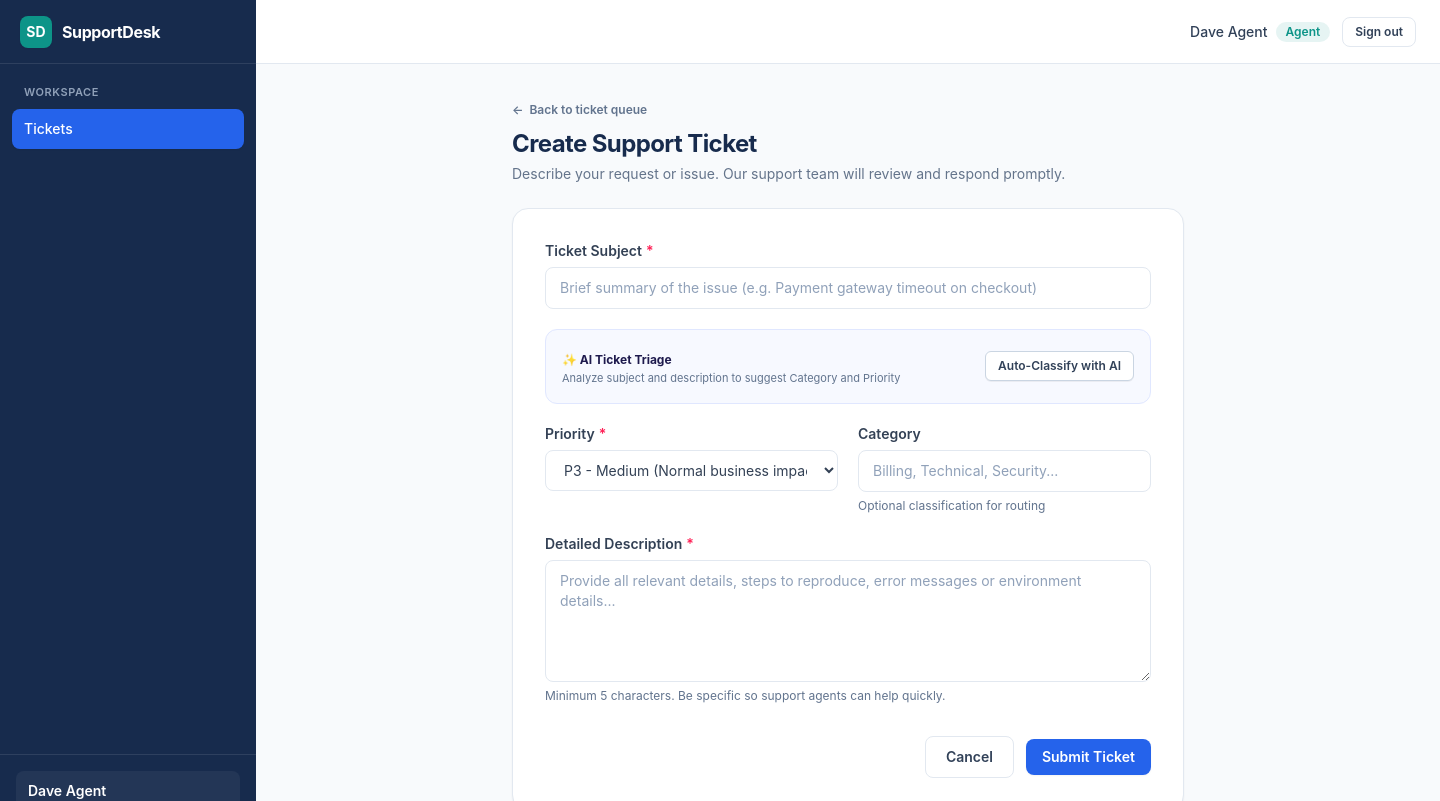
Test: AI Features Frontend UI › Feature 2: Auto-categorize + Priority in CreateTicketPage › classifies ticket and applies suggested category and priority to form
Replace the text in the field labelled "Ticket Subject*" with "Payment 504 Outage": [848, 288] box [545,267,1151,309]
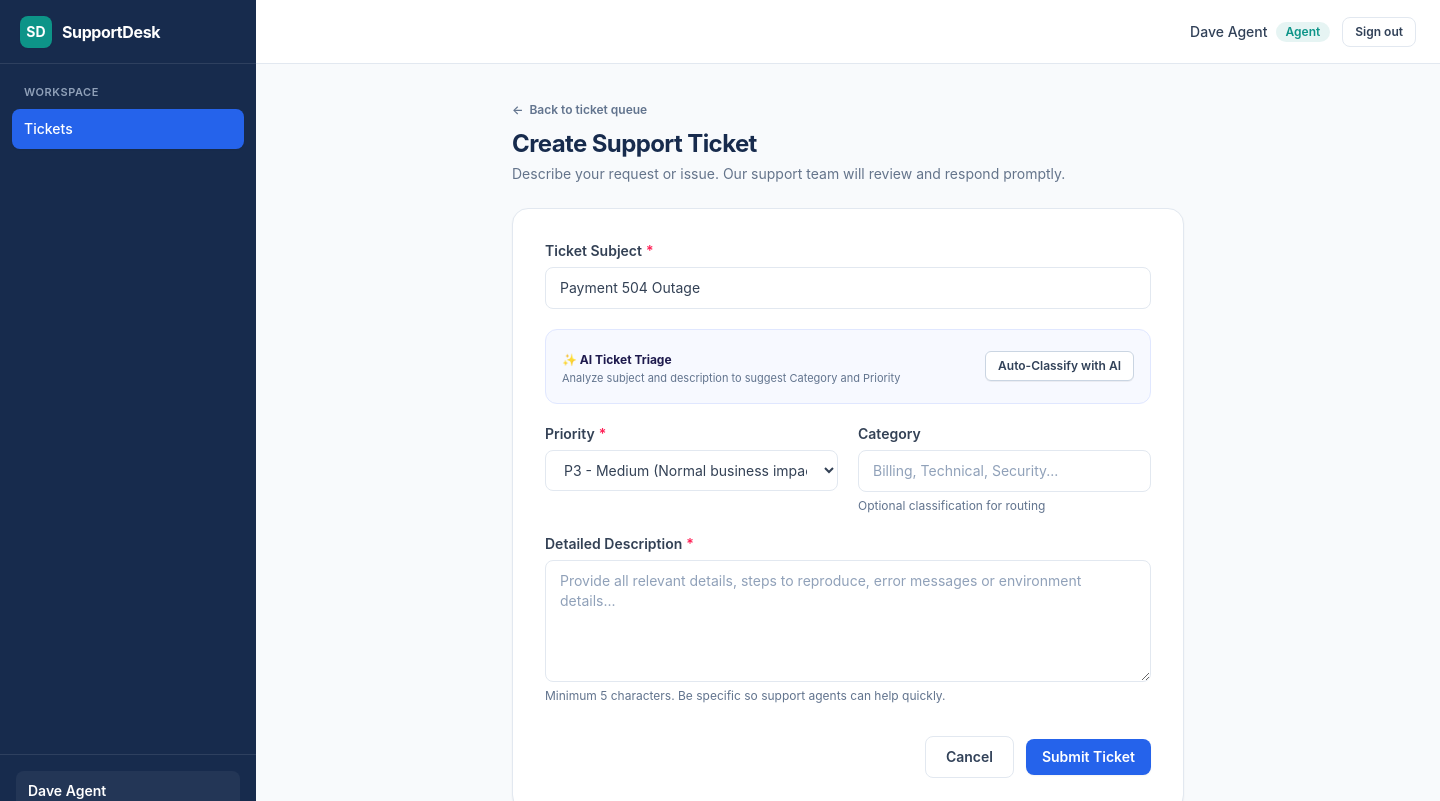
Replace the text in the text box labelled "Detailed Description*" with "All transactions on Stripe are failing with 504 timeouts.": [848, 620] box [545,560,1151,682]
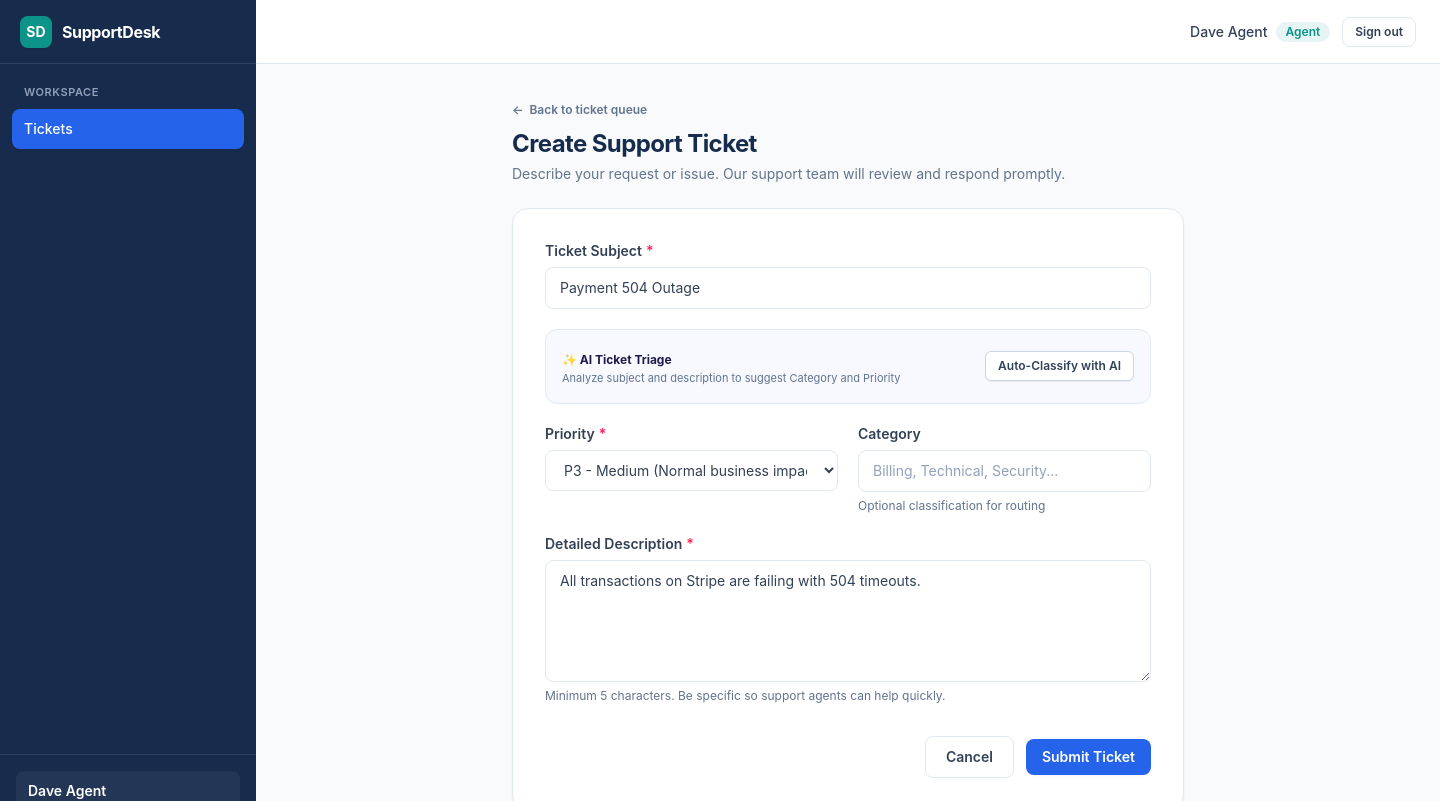
Click the button "Auto-Classify with AI": [1060, 366] box [985,351,1134,381]
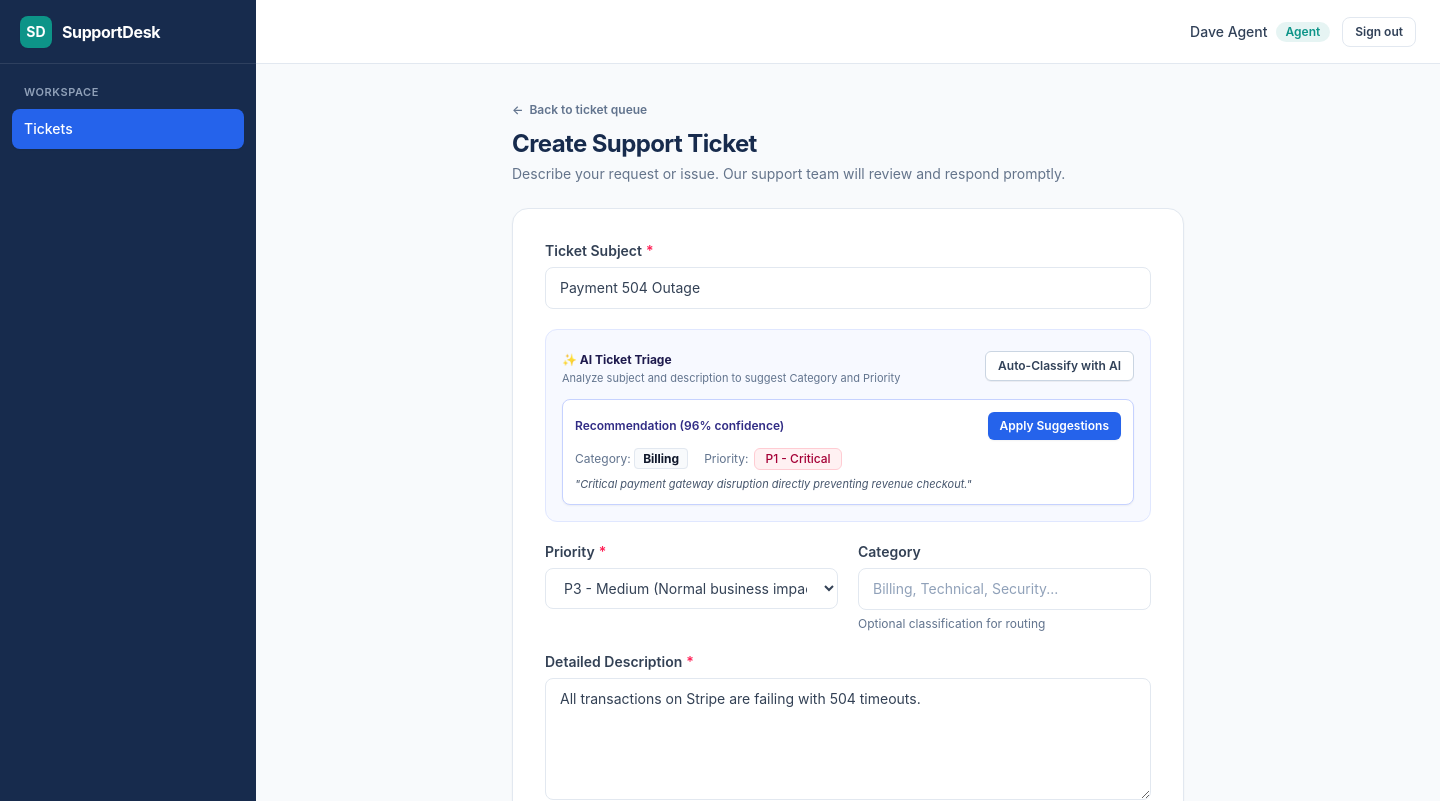
Check: the text "Critical payment gateway disruption" is shown, box [580,476,967,490]
Check: the text "Recommendation (96% confidence)" is shown, box [575,418,784,434]
Click "Apply Suggestions"
Click the button "Apply Suggestions": [1054, 426] box [988,412,1121,440]
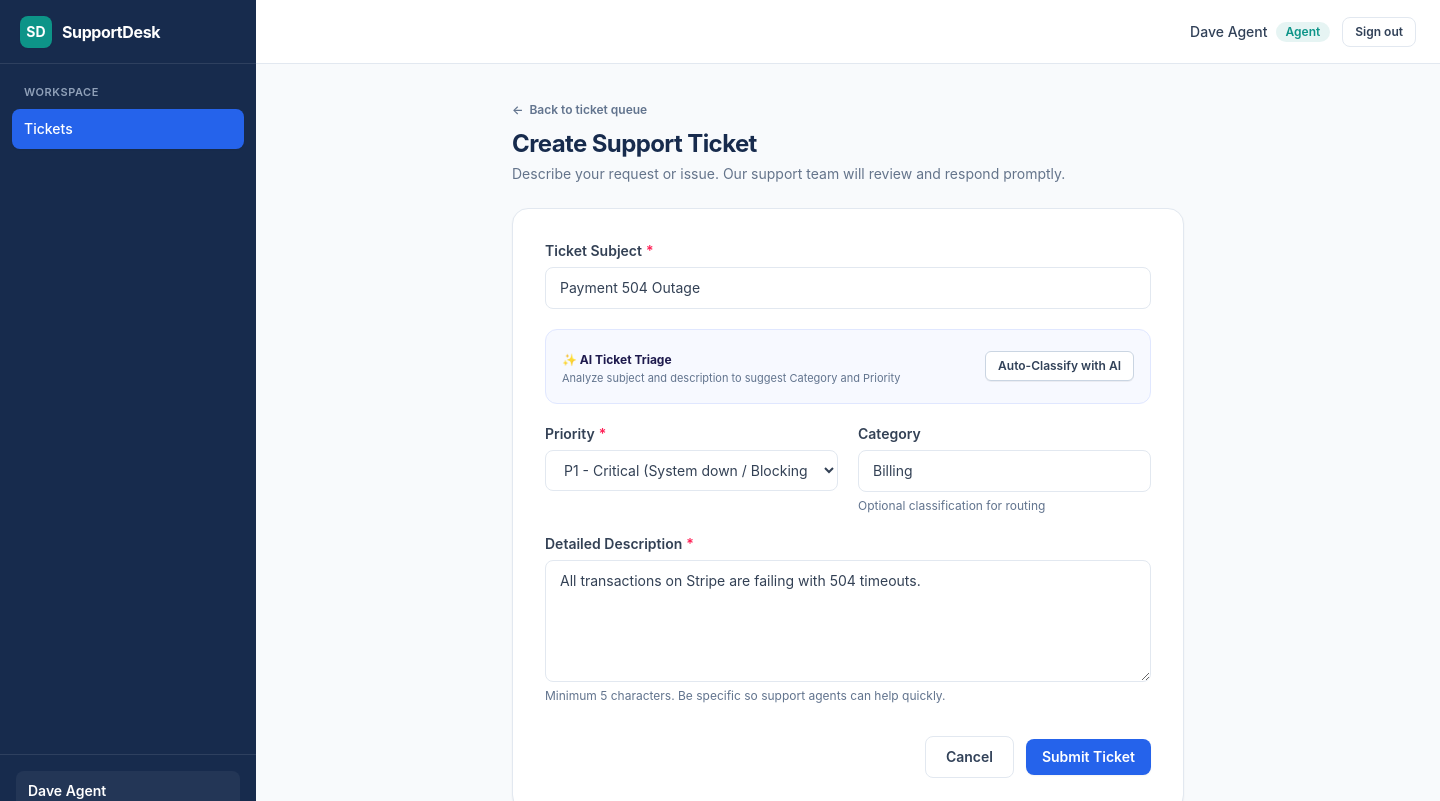
Check: the field labelled "Category" holds "Billing", box [858,450,1151,492]
Check: the dropdown labelled "Priority*" shows "P1 - Critical (System down / Blocking)", box [545,450,838,490]
